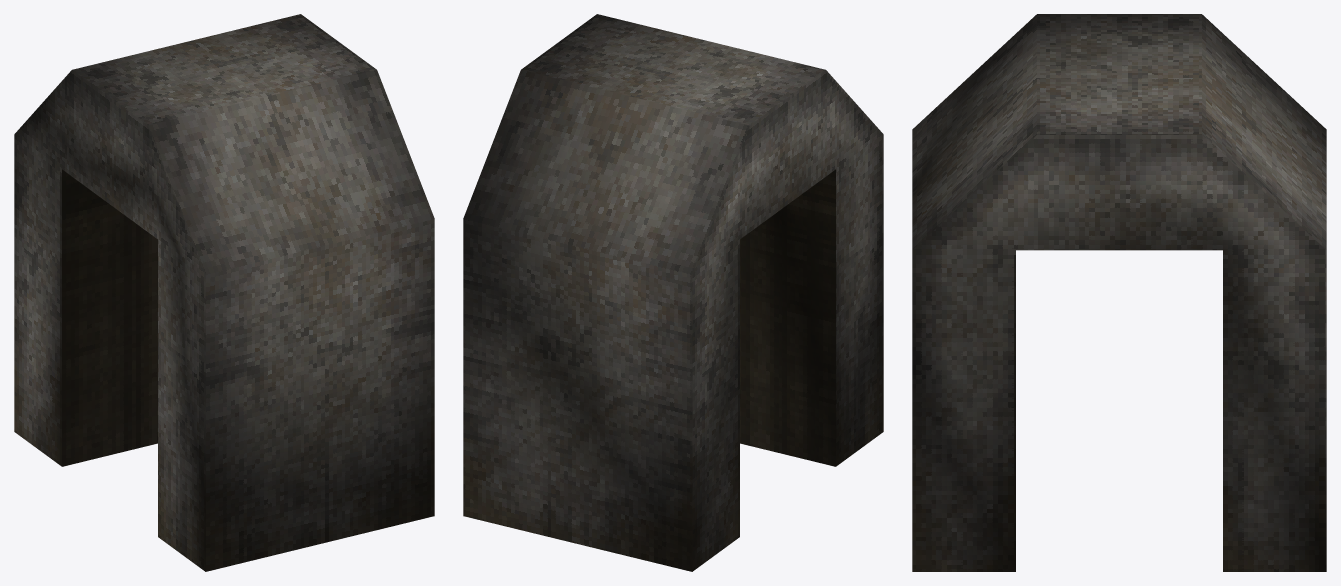
The model's file is microscopebuilding_entrance.glb.
3 views of the same model, side by side, from view 1: azimuth 30°, elevation 25°; view 2: azimuth 150°, elevation 25°; view 3: azimuth 270°, elevation 25° (orthographic). The views are drawn at different scales.
Visible parts, largest first — view 1: entrance; view 2: entrance; view 3: entrance.
Part boxes in pixels (x1,y1,x2,y2): entrance: [14, 14, 434, 571]; entrance: [463, 14, 883, 571]; entrance: [912, 14, 1326, 571].
Bounding box in the file's own units: 3.83 × 6.45 × 5.54.
1 material, 1 textured.
